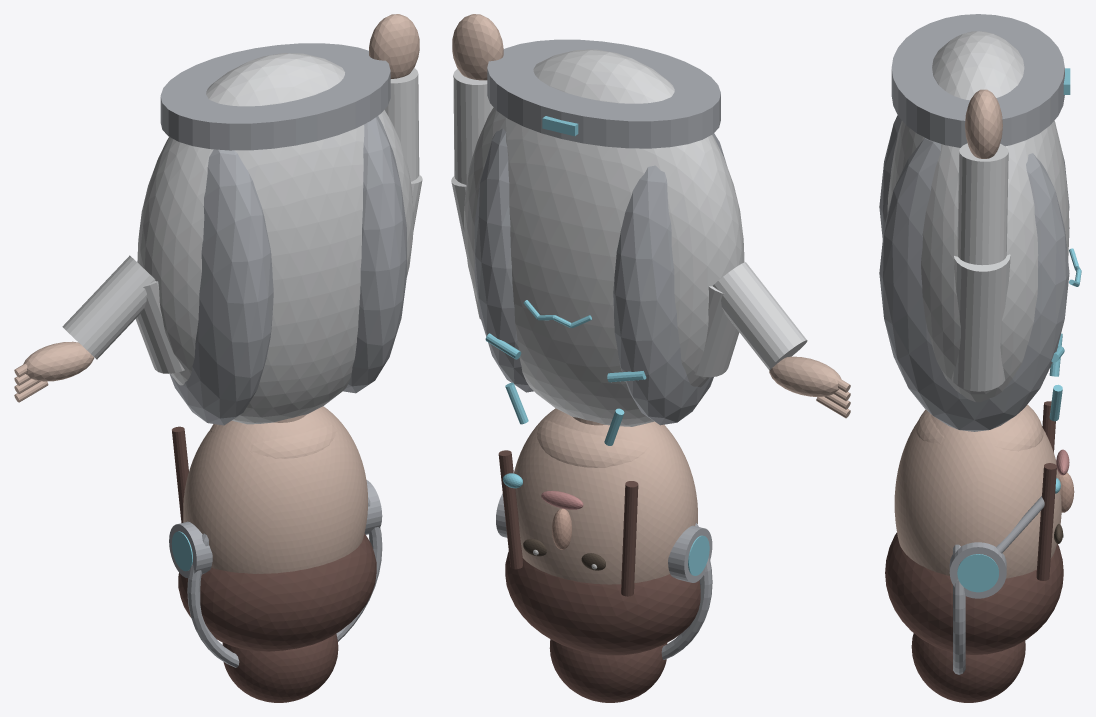
File: taurus-bot.glb
3 renders of one model, left to right at view 1: azimuth 30°, elevation 25°; view 2: azimuth 150°, elevation 25°; view 3: azimuth 270°, elevation 25°, orthographic. The views are drawn at different scales.
Parts seen in each view (by area): view 1: torso_white, head, side_panel_-0.55, belt, hair_cap, side_panel_0.55, hair_bun, left_forearm, right_hand, right_forearm, headset_band, left_upper_arm (+5 smaller); view 2: torso_white, head, belt, side_panel_-0.55, hair_cap, side_panel_0.55, left_forearm, hair_bun, chin, right_forearm, right_hand, left_upper_arm (+7 smaller); view 3: torso_white, side_panel_0.55, head, belt, hair_cap, right_upper_arm, right_forearm, hair_bun, right_hand, chin, hair_strand_r, earpad_0.53 (+7 smaller).
Boxes of the visible parts, x1,y1,x2,y2 form: torso_white: [137, 53, 413, 424]; head: [183, 406, 367, 573]; side_panel_-0.55: [169, 149, 273, 425]; belt: [160, 43, 390, 150]; hair_cap: [178, 533, 376, 651]; side_panel_0.55: [343, 116, 406, 393]; hair_bun: [222, 634, 338, 702]; left_forearm: [62, 255, 155, 359]; right_hand: [369, 14, 419, 78]; right_forearm: [384, 68, 419, 181]; headset_band: [187, 497, 382, 667]; left_upper_arm: [135, 261, 184, 373]; torso_white: [464, 49, 744, 426]; head: [514, 408, 697, 584]; belt: [487, 39, 720, 148]; side_panel_-0.55: [613, 133, 726, 425]; hair_cap: [505, 551, 700, 655]; side_panel_0.55: [474, 128, 533, 392]; left_forearm: [713, 262, 807, 370]; hair_bun: [549, 639, 667, 702]; chin: [537, 419, 666, 467]; right_forearm: [453, 69, 493, 184]; right_hand: [452, 14, 503, 80]; left_upper_arm: [694, 286, 739, 377]; torso_white: [887, 31, 1069, 402]; side_panel_0.55: [879, 138, 1069, 431]; head: [894, 411, 1061, 578]; belt: [891, 14, 1064, 147]; hair_cap: [885, 532, 1063, 654]; right_upper_arm: [951, 254, 1010, 391]; right_forearm: [957, 143, 1008, 265]; hair_bun: [911, 633, 1025, 702]; right_hand: [965, 89, 1002, 158]; chin: [916, 404, 1043, 451]; hair_strand_r: [1036, 463, 1056, 580]; earpad_0.53: [949, 542, 1006, 598].
Size of the model in its own units: 2.48 by 3.87 by 1.06.
